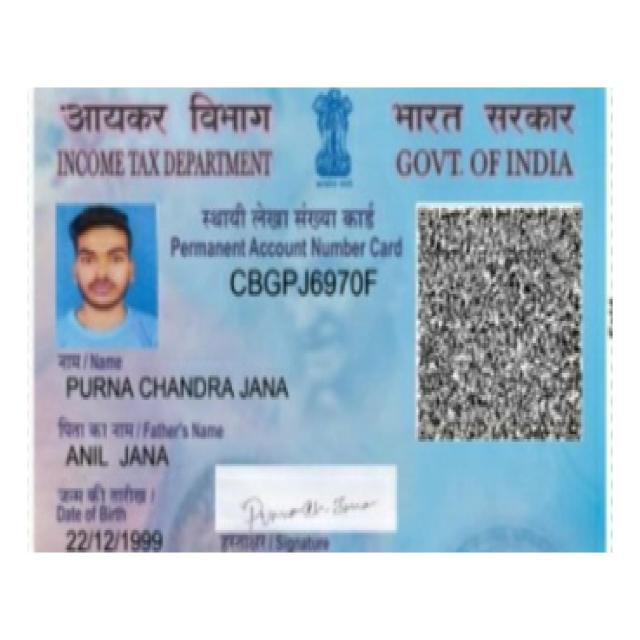pan_card: (32, 84, 606, 553)
